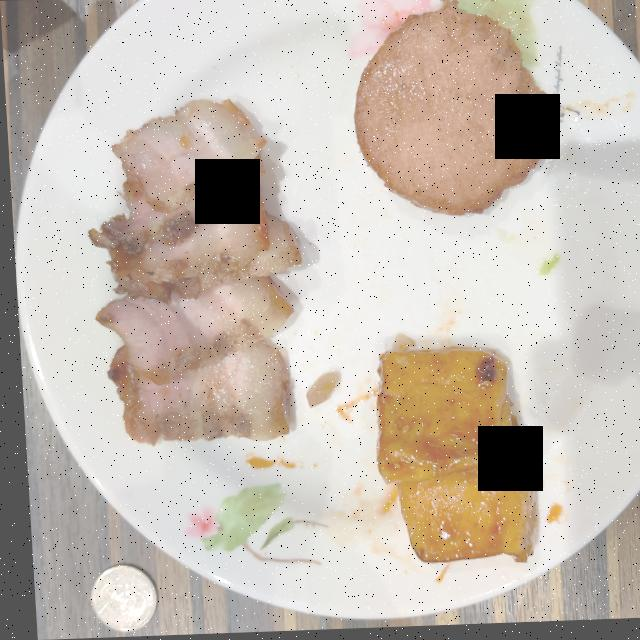Spam: (353, 0, 552, 218)
coin: (84, 565, 149, 631)
creamy tofu: (371, 350, 530, 564)
red grilled pork: (85, 100, 298, 445)
